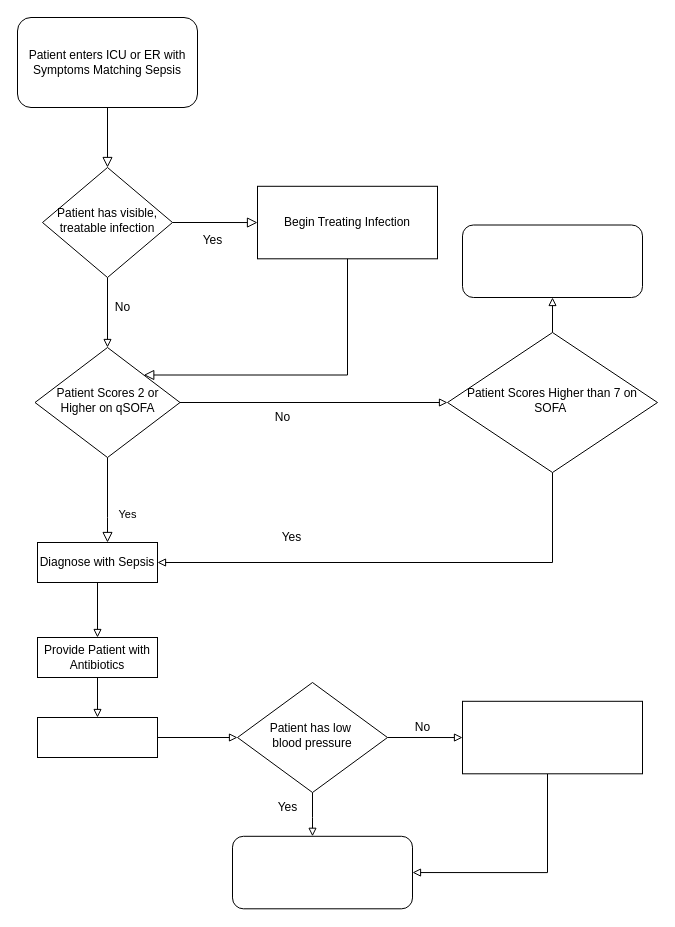
The diagram is 675 pixels wide and 927 high, and some of its shapes have lost their labels. Here are the shapes that lost their labels. From the top down, the box of each, then its label:
(462, 224, 642, 298): Pursue other areas of diagnosis
(36, 716, 158, 758): Provide Patient with IV Fluids
(462, 700, 642, 774): Provide patient with vasopressors
(232, 835, 412, 909): Await changes to patient condition
